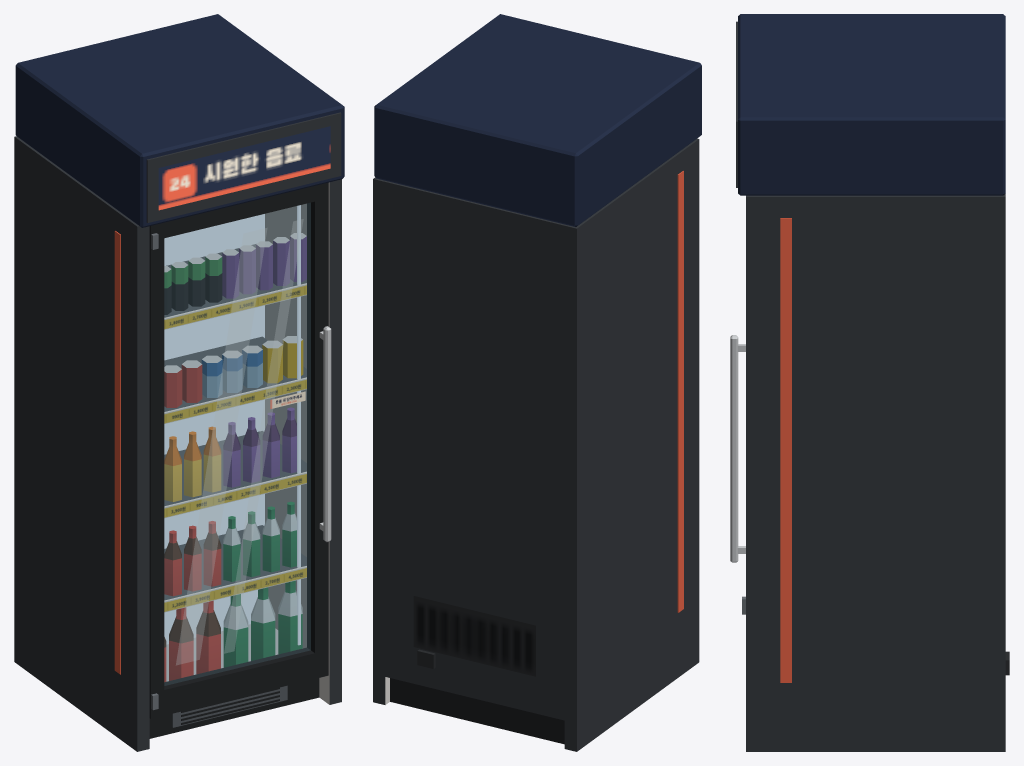
File: SC_Fix_Fridge_Drinks_1Door.gltf
3 views of the same model, side by side, from view 1: azimuth 30°, elevation 25°; view 2: azimuth 150°, elevation 25°; view 3: azimuth 270°, elevation 25° (orthographic). The views are drawn at different scales.
Parts seen in each view (by area): view 1: SC_Fix_Fridge_Drinks_1Door; view 2: SC_Fix_Fridge_Drinks_1Door; view 3: SC_Fix_Fridge_Drinks_1Door.
Part boxes in pixels (x1,y1,x2,y2): SC_Fix_Fridge_Drinks_1Door: [14, 14, 344, 751]; SC_Fix_Fridge_Drinks_1Door: [373, 14, 701, 751]; SC_Fix_Fridge_Drinks_1Door: [730, 14, 1009, 751].
Bounding box in the file's own units: 0.756 × 2.1 × 0.84.
5 materials, 5 textured.
